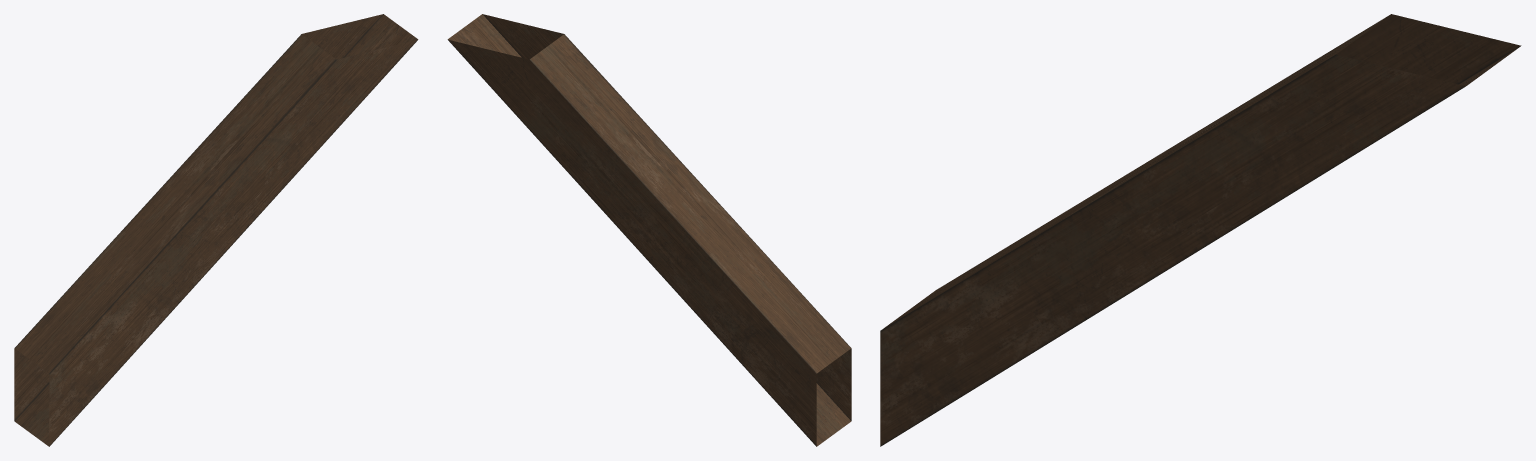
File: TowerOverhang_WoodenSupport45Degrees.fbx
3 renders of one model, left to right at view 1: azimuth 30°, elevation 25°; view 2: azimuth 150°, elevation 25°; view 3: azimuth 330°, elevation 25°, orthographic. The views are drawn at different scales.
Visible parts, largest first — view 1: polySurface138; view 2: polySurface138; view 3: polySurface138.
Boxes of the visible parts, x1,y1,x2,y2 form: polySurface138: (14, 14, 418, 446); polySurface138: (447, 14, 851, 446); polySurface138: (880, 14, 1521, 446).
Size of the model in its own units: 104 by 85.23 by 17.
